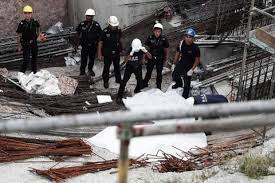hard hat: (106, 15, 119, 27), (131, 38, 141, 51), (184, 28, 195, 37), (85, 8, 96, 15), (153, 24, 163, 31), (23, 6, 33, 12)
